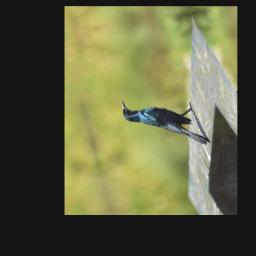Crow: (119, 83, 211, 163)
